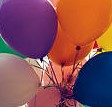Balloon: (1, 1, 58, 58), (57, 1, 112, 45), (74, 53, 112, 107), (1, 56, 40, 107)
